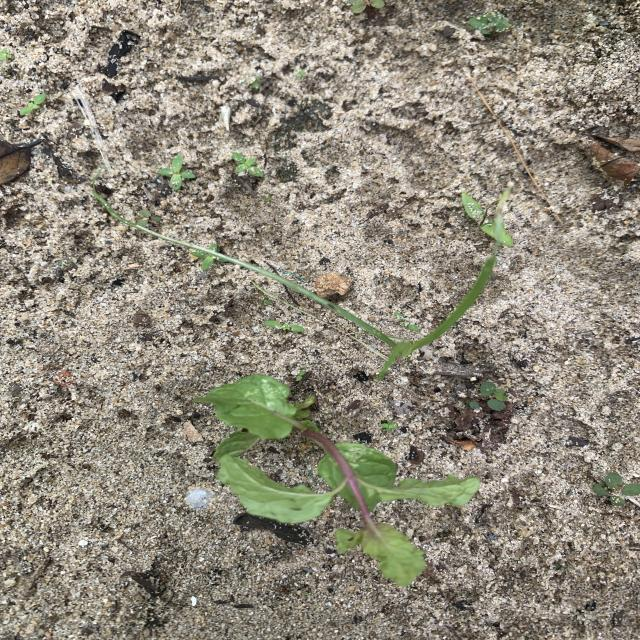crop: (194, 375, 479, 586)
weed: (165, 238, 501, 370), (462, 183, 513, 257), (592, 471, 640, 508), (157, 151, 196, 191), (232, 150, 263, 194), (345, 0, 397, 26), (480, 381, 511, 418), (468, 13, 510, 36), (21, 91, 46, 117), (265, 320, 304, 332), (136, 210, 161, 225), (396, 13, 412, 27), (381, 420, 397, 433)
